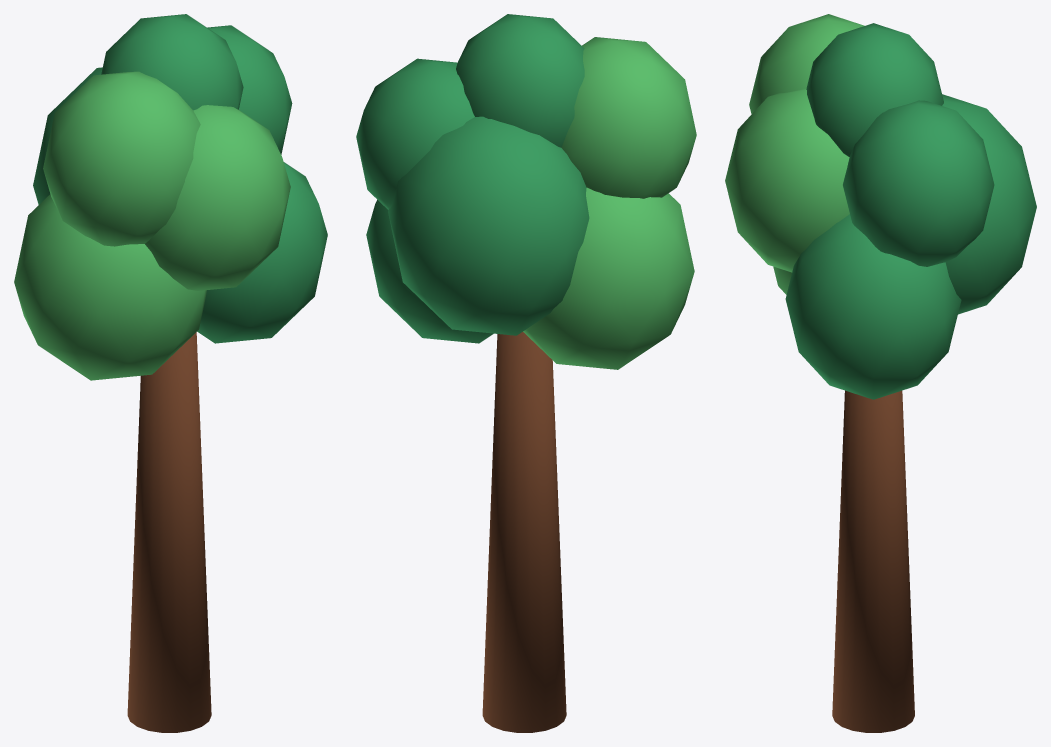
File: courtyard-tree.glb
3 renders of one model, left to right at view 1: azimuth 30°, elevation 25°; view 2: azimuth 150°, elevation 25°; view 3: azimuth 270°, elevation 25°, orthographic.
Parts seen in each view (by area): view 1: tree · Fresh leaf, tree · Walnut, tree · Leaf green; view 2: tree · Leaf green, tree · Fresh leaf, tree · Walnut; view 3: tree · Leaf green, tree · Walnut, tree · Fresh leaf.
Part boxes in pixels (x1,y1,x2,y2): tree · Fresh leaf: [14, 71, 290, 380]; tree · Walnut: [127, 332, 211, 732]; tree · Leaf green: [33, 14, 327, 343]; tree · Leaf green: [356, 14, 589, 343]; tree · Fresh leaf: [523, 37, 696, 369]; tree · Walnut: [482, 332, 566, 732]; tree · Leaf green: [785, 23, 1036, 399]; tree · Walnut: [832, 390, 914, 732]; tree · Fresh leaf: [725, 14, 864, 294].
Size of the model in its own units: 1.85 by 4.21 by 1.73.
